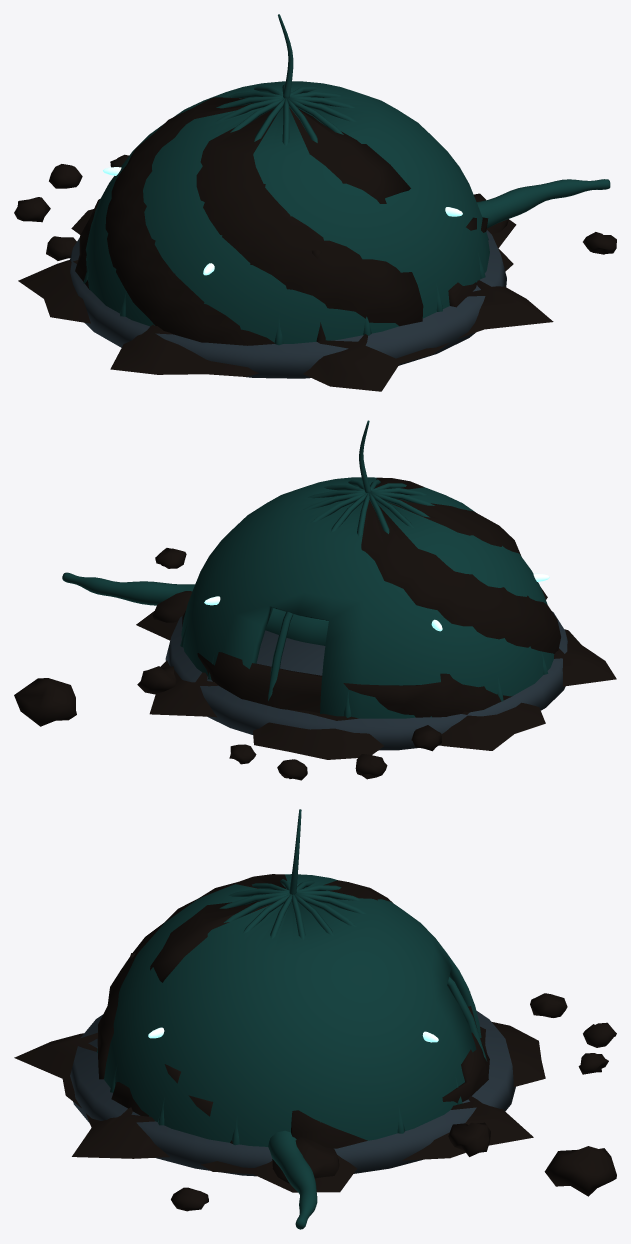
The model's file is settlement.glb.
3 views of the same model, one above another, from view 1: azimuth 30°, elevation 25°; view 2: azimuth 150°, elevation 25°; view 3: azimuth 270°, elevation 25° (orthographic). The views are drawn at different scales.
Parts seen in each view (by area): view 1: Dwelling, DwellingRuin, Crater, DwellingBase, DwellingRibs, RuinRubble, FallenSpire; view 2: Dwelling, DwellingRuin, Crater, DwellingBase, RuinRubble, DwellingRibs, FallenSpire; view 3: Dwelling, DwellingBase, Crater, DwellingRuin, RuinRubble, DwellingRibs, FallenSpire.
Part boxes in pixels (bbox=[...]): Dwelling: bbox=[85, 81, 489, 343]; DwellingRuin: bbox=[75, 97, 488, 345]; Crater: bbox=[18, 209, 553, 391]; DwellingBase: bbox=[70, 230, 506, 378]; DwellingRibs: bbox=[83, 14, 488, 345]; RuinRubble: bbox=[14, 154, 616, 341]; FallenSpire: bbox=[476, 179, 610, 228]; Dwelling: bbox=[181, 477, 554, 718]; DwellingRuin: bbox=[182, 477, 560, 717]; Crater: bbox=[136, 588, 616, 759]; DwellingBase: bbox=[165, 611, 567, 750]; RuinRubble: bbox=[14, 548, 441, 780]; DwellingRibs: bbox=[180, 420, 548, 717]; FallenSpire: bbox=[62, 572, 328, 645]; Dwelling: bbox=[104, 874, 481, 1146]; DwellingBase: bbox=[70, 1010, 515, 1176]; Crater: bbox=[14, 1022, 545, 1192]; DwellingRuin: bbox=[97, 874, 489, 1148]; RuinRubble: bbox=[129, 952, 616, 1211]; DwellingRibs: bbox=[96, 809, 487, 1145]; FallenSpire: bbox=[268, 1130, 317, 1229].
Bounding box in the file's own units: 8.25 × 4.15 × 7.74.
